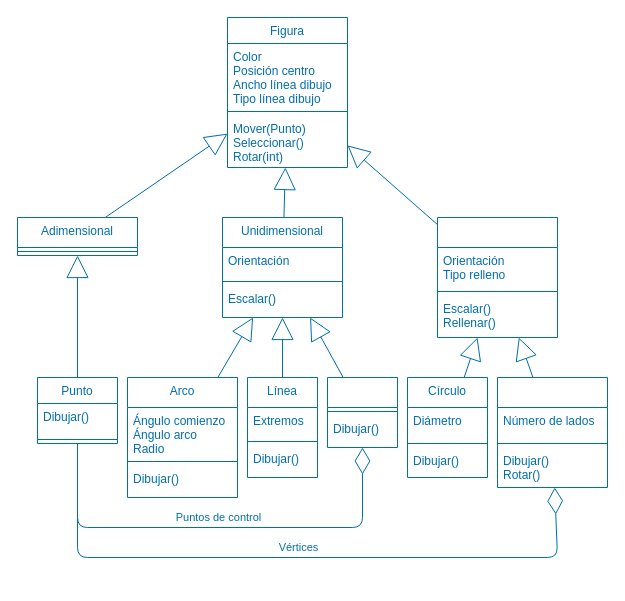
The diagram is 625 pixels wide and 601 high, and some of its shapes have lost their labels. The box of each missing label's shape, as (x1, y1, x2, y2) in pixels:
Bidimensional: (436, 216, 558, 338)
Polígono: (496, 376, 608, 488)
Spline: (326, 376, 398, 448)
